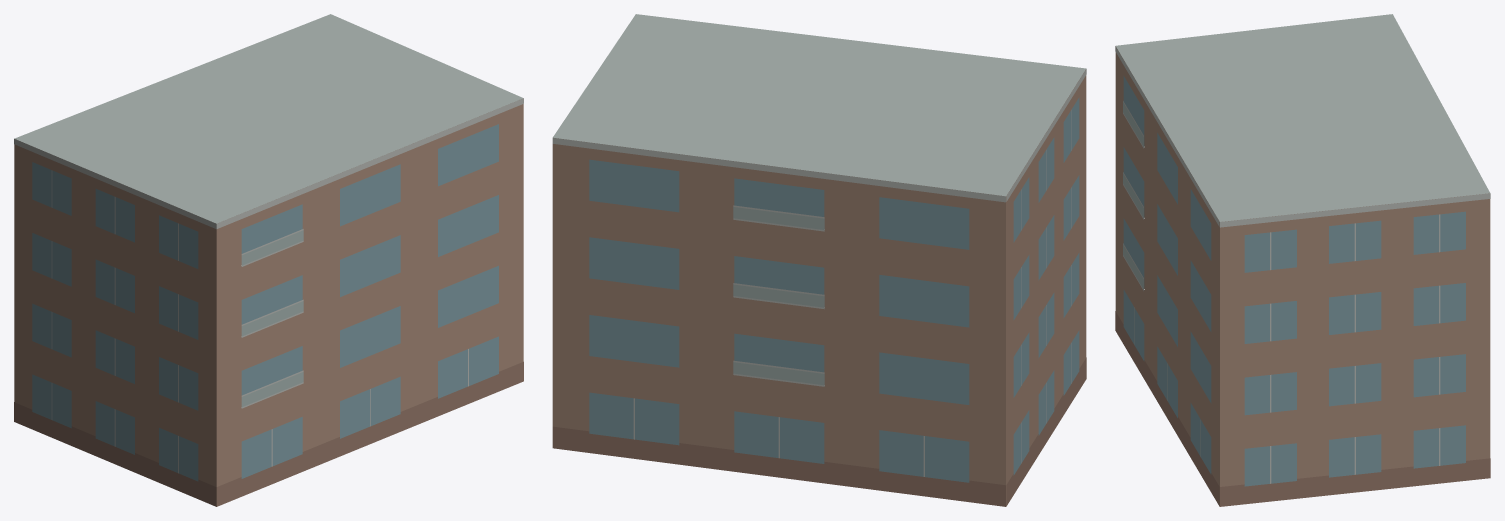
The model's file is survey-upis-32648747.glb.
3 views of the same model, side by side, from view 1: azimuth 30°, elevation 25°; view 2: azimuth 150°, elevation 25°; view 3: azimuth 270°, elevation 25° (orthographic). The views are drawn at different scales.
Parts seen in each view (by area): view 1: survey-upis-32648747.tmp; view 2: survey-upis-32648747.tmp; view 3: survey-upis-32648747.tmp.
Boxes of the visible parts, x1=… form: survey-upis-32648747.tmp: x1=14, y1=14, x2=523, y2=506; survey-upis-32648747.tmp: x1=552, y1=14, x2=1086, y2=506; survey-upis-32648747.tmp: x1=1115, y1=14, x2=1490, y2=506.
Bounding box in the file's own units: 19.42 × 12.4 × 14.8.
